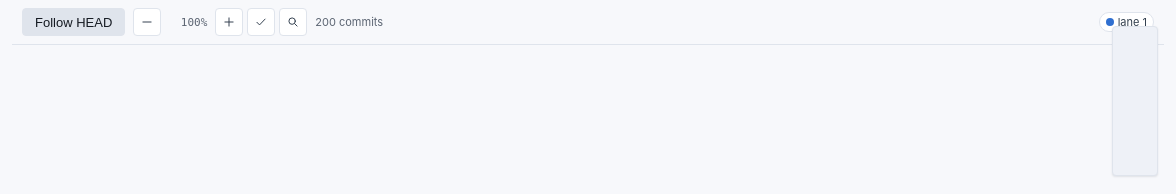
Test: Fit zooms out to the whole history and clamps to the zoom bounds
This screenshot has width=1176, height=194.
Click the button named "Fit": x=293, y=22 left=279, top=8, right=307, bottom=36
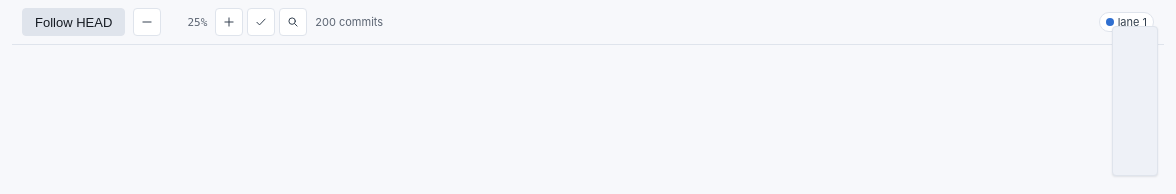
Expected: the text "25%" is shown, left=187, top=16, right=207, bottom=28
